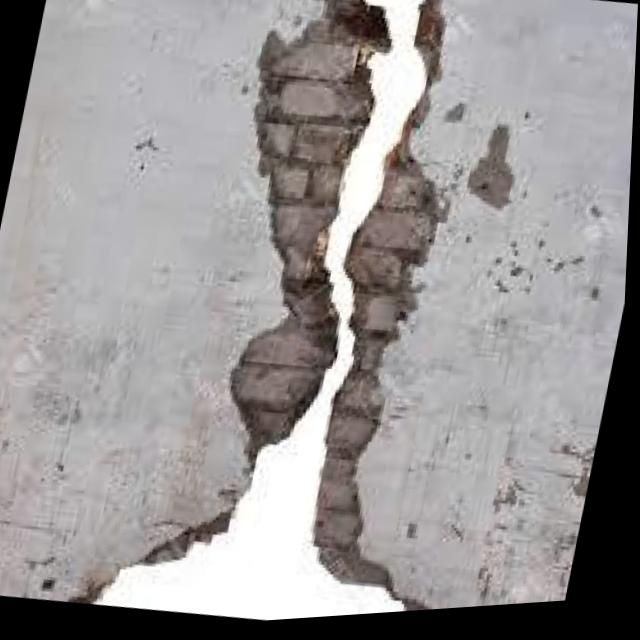Crack: (217, 0, 448, 557)
